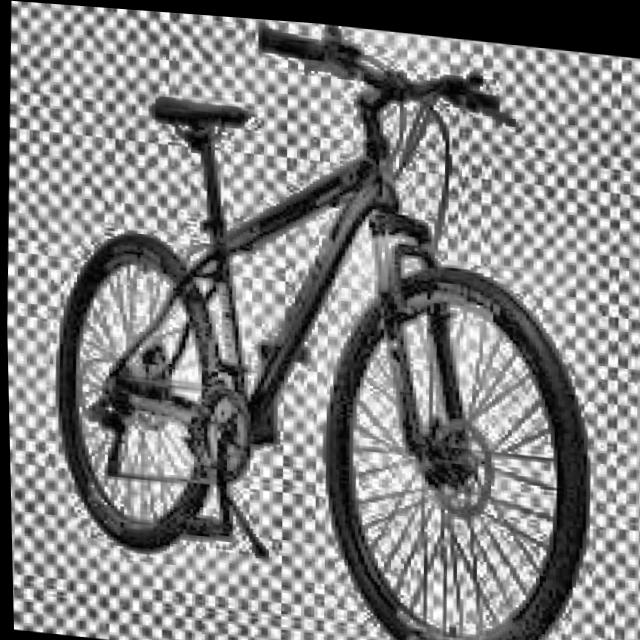motorcycle: (38, 2, 632, 640)
